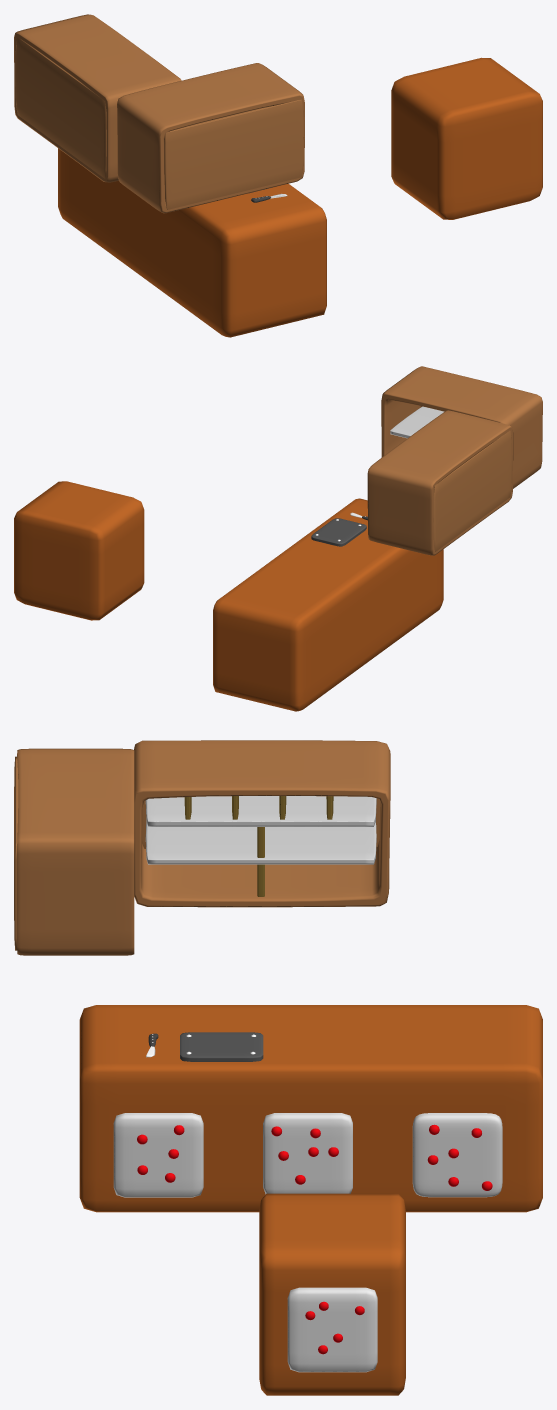
Rendered from Buyuk_tezgah.fbx.
The picture shows the model from 3 angles, top to bottom: view 1: azimuth 30°, elevation 25°; view 2: azimuth 150°, elevation 25°; view 3: azimuth 270°, elevation 25°; orthographic projection. The views are drawn at different scales.
Visible parts, largest first — view 1: pCube60, polySurface1, pCube52, pCube59, pCube54, pCube65; view 2: pCube60, polySurface1, pCube54, pCube52, pCube65, pCube69, pCube64; view 3: pCube60, pCube54, pCube52, polySurface1, pCube66, polySurface2, pCube63, pCube57, pCube56, pCube58, pCube69.
Boxes of the visible parts, x1,y1,x2,y2 form: pCube60: (58,148,326,337); polySurface1: (391,57,542,219); pCube52: (117,63,304,213); pCube59: (164,99,303,209); pCube54: (14,14,181,182); pCube65: (15,37,106,178); pCube60: (213,498,443,711); polySurface1: (14,481,144,620); pCube54: (367,410,513,555); pCube52: (381,366,542,488); pCube65: (433,431,512,551); pCube69: (311,518,366,546); pCube64: (390,406,444,438); pCube60: (79,1005,542,1212); pCube54: (134,740,390,907); pCube52: (17,748,134,955); polySurface1: (259,1193,405,1395); pCube66: (145,821,376,864); polySurface2: (287,1287,377,1372); pCube63: (113,1113,203,1197); pCube57: (412,1113,502,1197); pCube56: (263,1113,352,1194); pCube58: (145,796,376,826); pCube69: (180,1032,263,1061).
Bounding box in the file's own units: 853 × 419 × 585.
